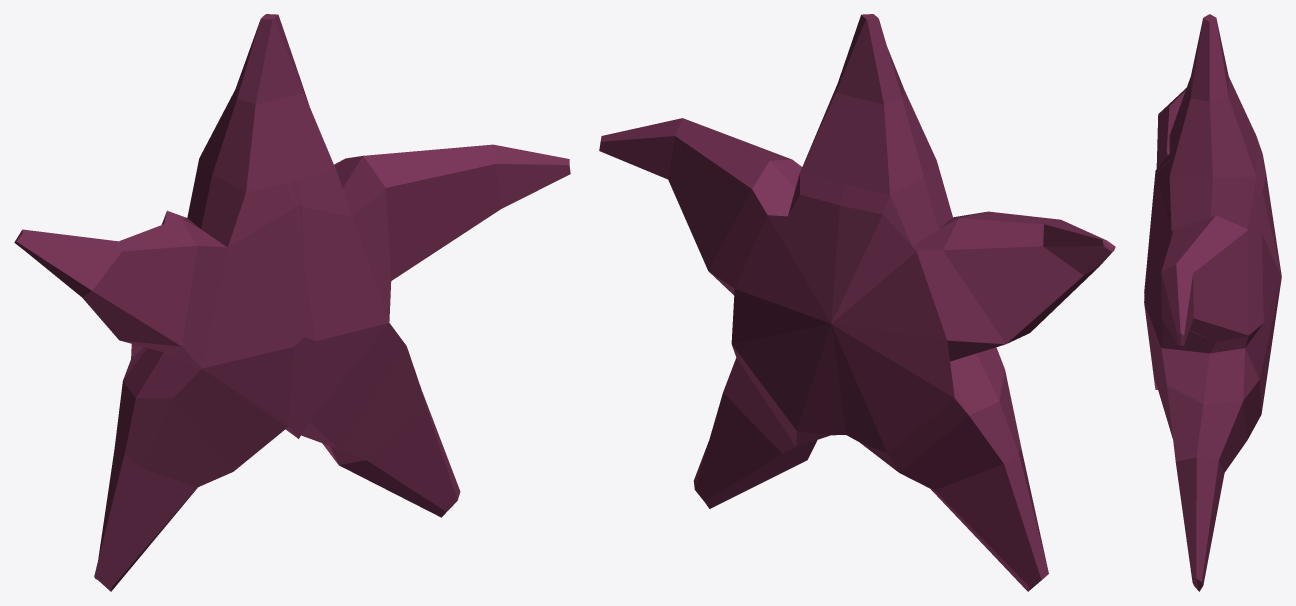
Rendered from estrella 1.fbx.
3 views of the same model, side by side, from view 1: azimuth 30°, elevation 25°; view 2: azimuth 150°, elevation 25°; view 3: azimuth 270°, elevation 25° (orthographic). The views are drawn at different scales.
Visible parts, largest first — view 1: star; view 2: star; view 3: star.
Part boxes in pixels (left/top/right/bottom): star: left=14, top=14, right=570, bottom=591; star: left=599, top=14, right=1115, bottom=591; star: left=1144, top=14, right=1281, bottom=591.
Bounding box in the file's own units: 316 × 304 × 76.06.
